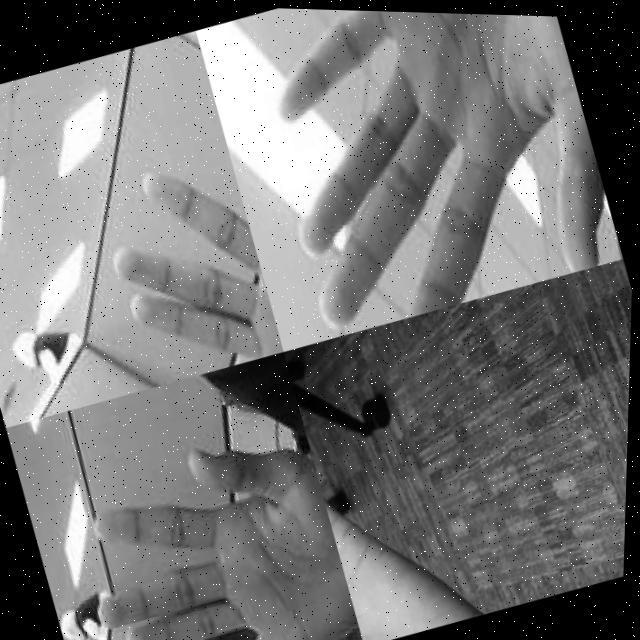no-gloves: (228, 6, 630, 343), (62, 413, 374, 640), (295, 359, 523, 640), (81, 136, 290, 392)
